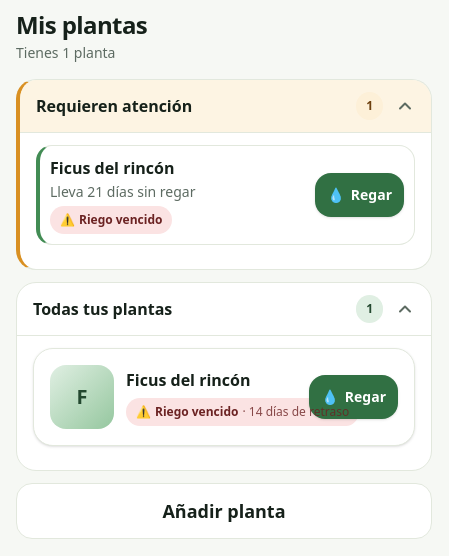
Scenario: <Inicio> › la sección de atención se puede plegar a mano aunque tenga cosas
Click the button "Requieren atención 1" at (114, 106), box [20,80,431,133]
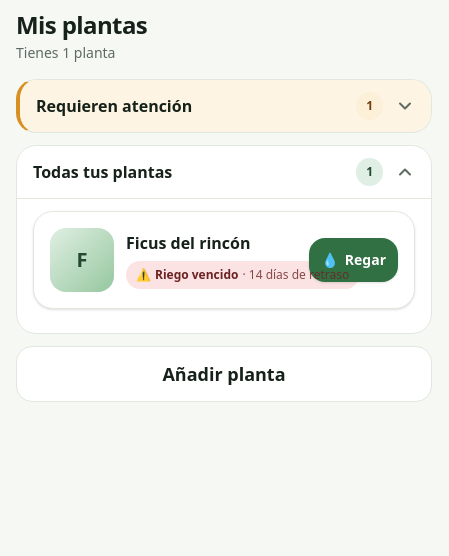
Check: the 1st text "1" is shown, box [356,92,383,120]
Check: the button "Requieren atención 1" is collapsed, box [20,80,431,132]
